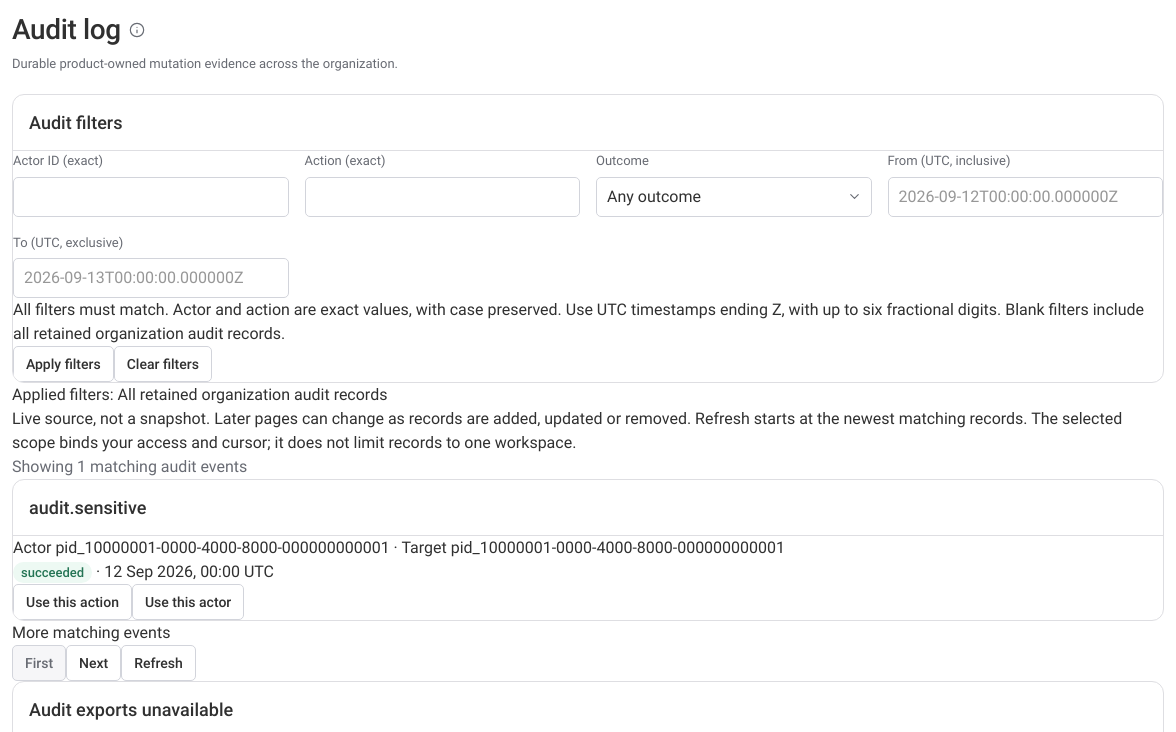
Scenario: bounded audit browsing › clears a retained page immediately when current authorization refuses Next
The image size is (1176, 732).
Expected: the heading "audit.sensitive" is shown, x1=29 y1=496 x2=146 y2=520
Click the button "Next". click: (94, 663)
box: x1=66 y1=645 x2=121 y2=681
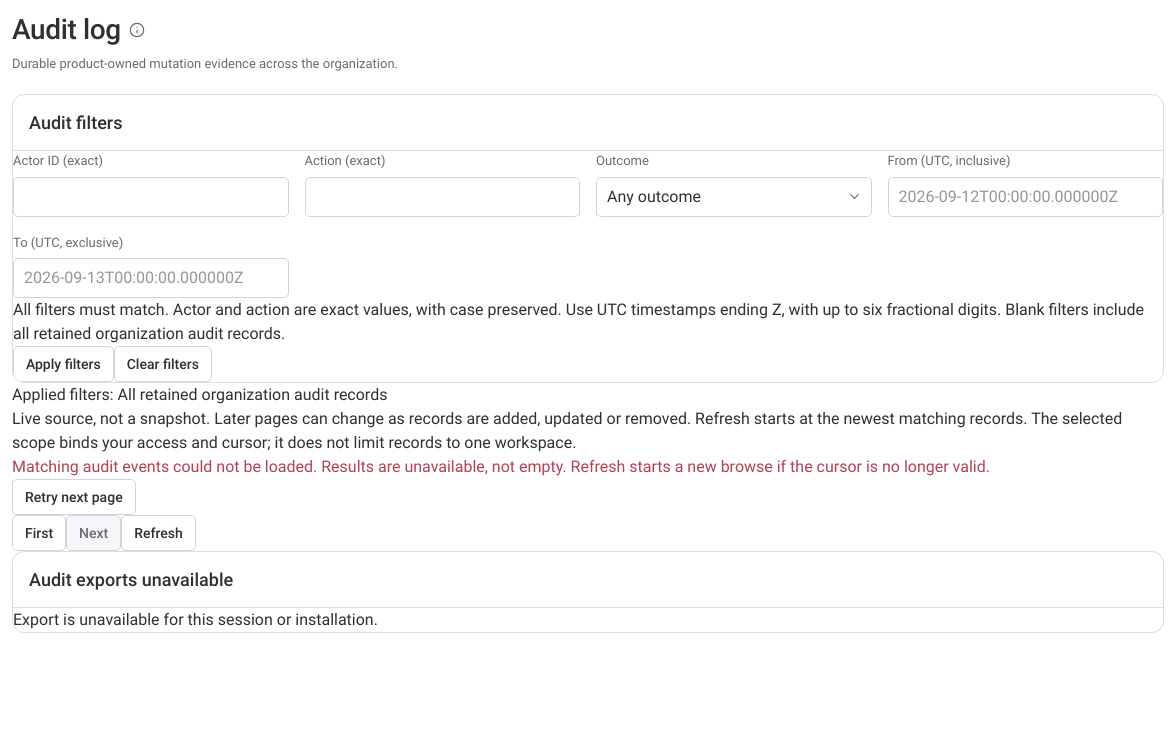
Expected: the message is shown, x1=12 y1=457 x2=990 y2=515
Expected: the heading "audit.sensitive" is gone
Expected: the text "Results are unavailable, not empty" is shown, x1=321 y1=457 x2=567 y2=476
